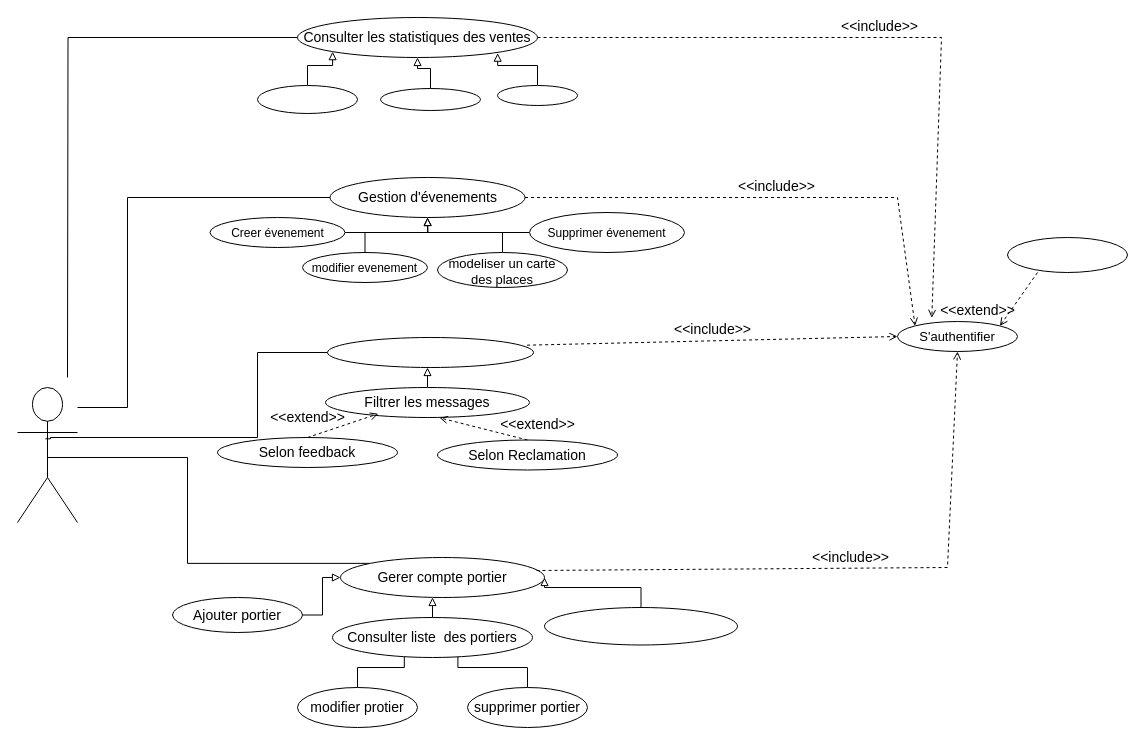
The diagram is 1145 pixels wide and 745 high, and some of its shapes have lost their labels. The shapes that lost their labels are listed below. From the top down, each one's centre as x and y in pixels, then its label:
At point (307, 99): "Selon region".
At point (430, 99): "Selon mois".
At point (537, 95): "Selon l'age".
At point (1067, 254): "Deconnecter".
At point (430, 352): "Consulter des messages".
At point (47, 454): "Organisateur".
At point (641, 625): "Ajouter Portier au evenement".
